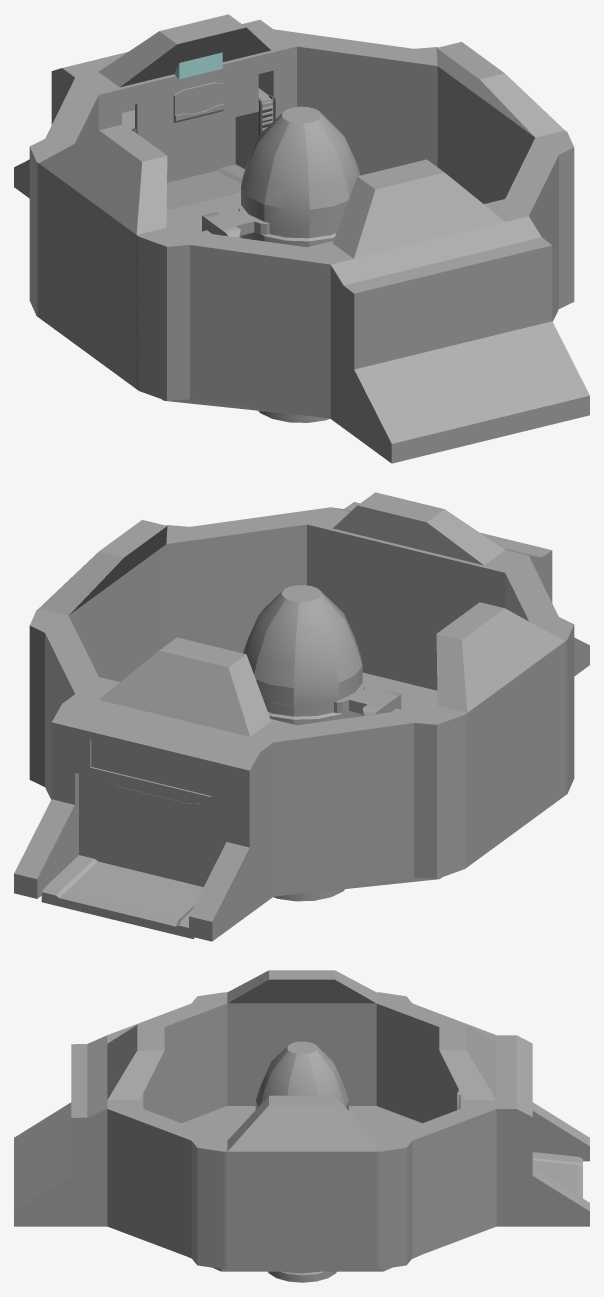
The model's file is terminusV2Group.fbx.
3 renders of one model, top to bottom at view 1: azimuth 30°, elevation 25°; view 2: azimuth 150°, elevation 25°; view 3: azimuth 270°, elevation 25°, orthographic. The views are drawn at different scales.
Visible parts, largest first — view 1: pCube1, pCylinder1, pCube2, Ramp, pCube6, pCube7, pCube4, Cube__3_; view 2: pCube1, pCylinder1, Ramp, pCube2, pCube6, pCube7; view 3: pCube1, pCylinder1, pCube6, Ramp.
Boxes of the visible parts, left/top/right/bottom form: pCube1: left=14, top=14, right=589, bottom=463; pCylinder1: left=241, top=106, right=360, bottom=422; pCube2: left=145, top=121, right=220, bottom=182; Ramp: left=166, top=117, right=244, bottom=209; pCube6: left=162, top=192, right=310, bottom=416; pCube7: left=200, top=205, right=269, bottom=237; pCube4: left=173, top=82, right=223, bottom=115; Cube__3_: left=174, top=52, right=222, bottom=79; pCube1: left=14, top=492, right=589, bottom=941; pCylinder1: left=243, top=585, right=362, bottom=901; Ramp: left=41, top=774, right=226, bottom=939; pCube2: left=94, top=777, right=215, bottom=886; pCube6: left=291, top=672, right=441, bottom=894; pCube7: left=334, top=684, right=402, bottom=715; pCube1: left=14, top=970, right=589, bottom=1269; pCylinder1: left=255, top=1041, right=348, bottom=1282; pCube6: left=182, top=1106, right=421, bottom=1271; Ramp: left=532, top=1152, right=582, bottom=1198.
Bounding box in the file's own units: 50.03 × 33.59 × 76.4.
